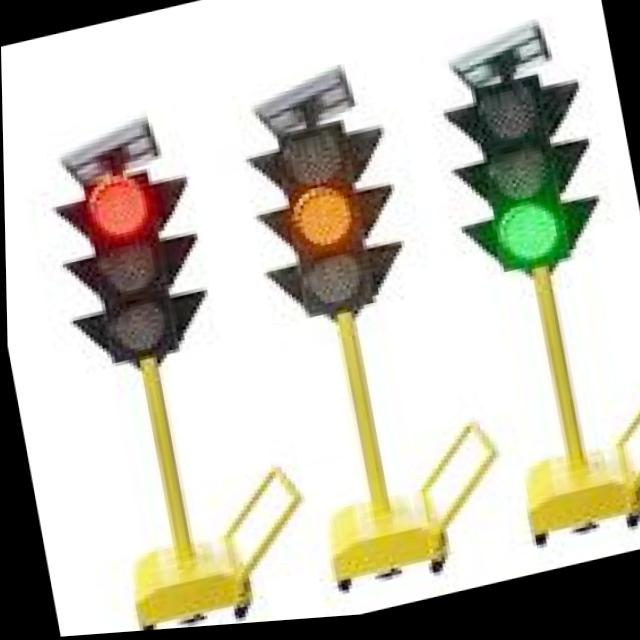green_light: (461, 185, 598, 301)
red_light: (42, 154, 187, 249)
yellow_light: (258, 175, 375, 268)
